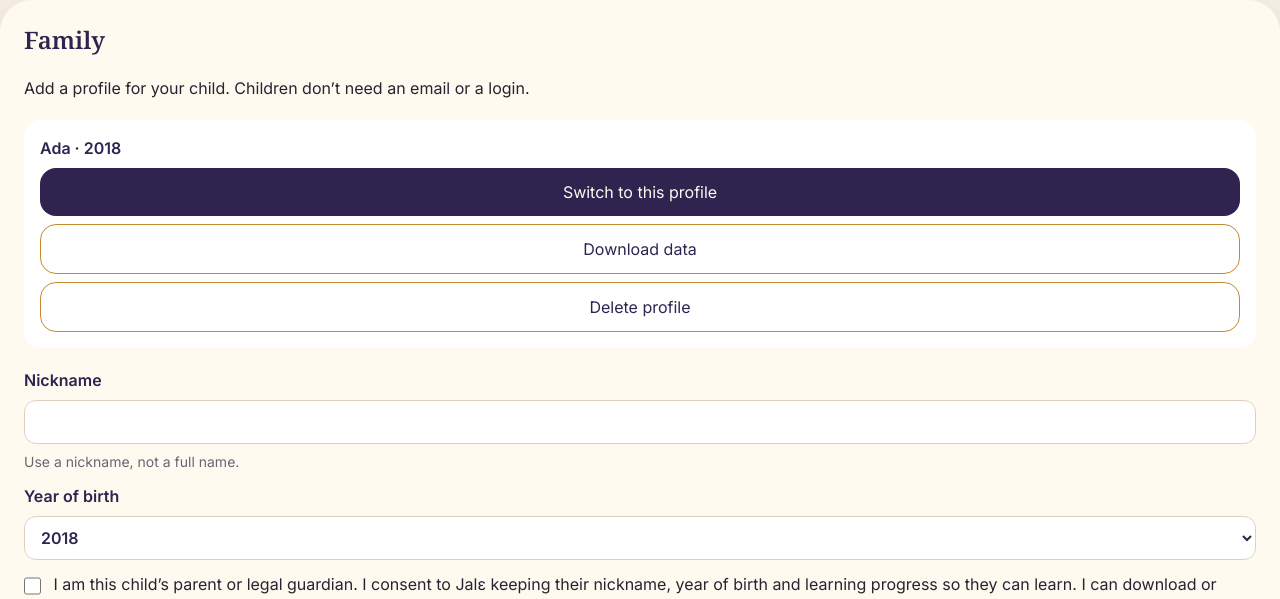
Test: family section › asks before deleting a child profile
Check: the text "Ada · 2018" is shown, box [40, 138, 121, 158]
Click the button "Delete profile" at (640, 307), box [40, 282, 1240, 332]
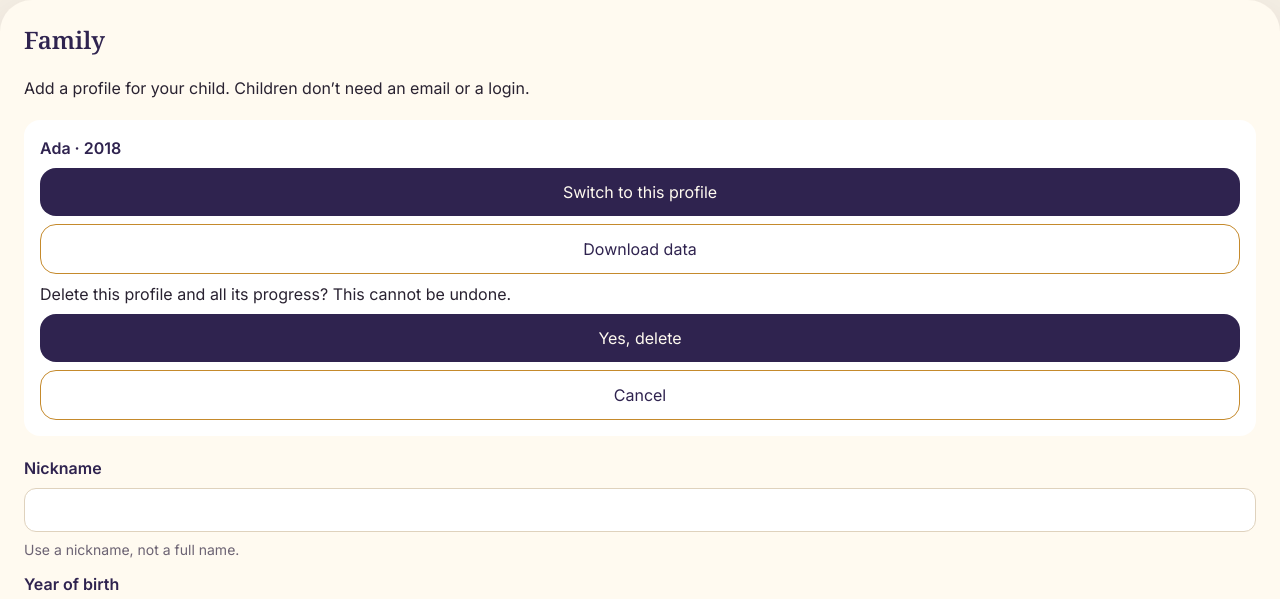
Click the button "Yes, delete" at (640, 338), box [40, 314, 1240, 362]
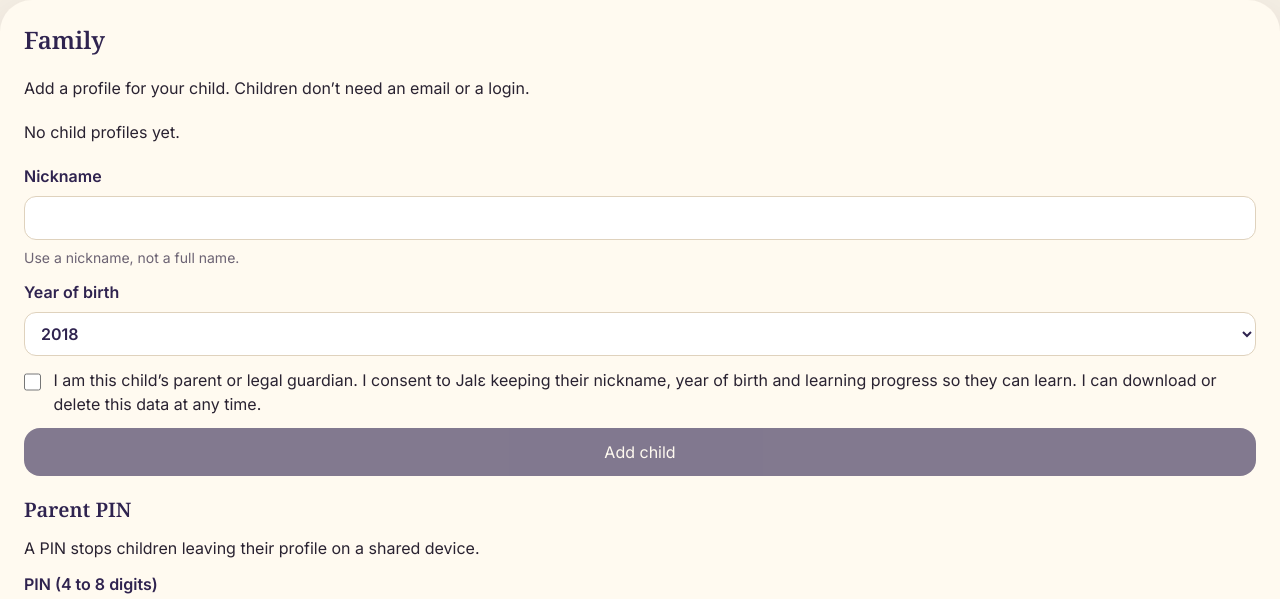
Check: the text "Ada · 2018" is gone
